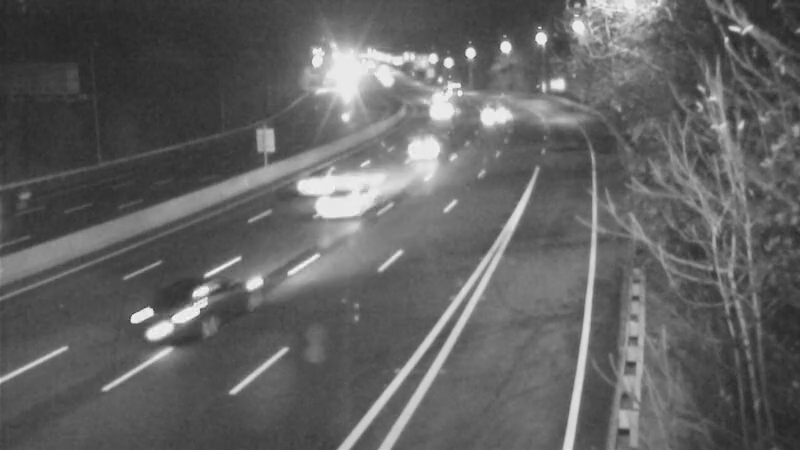vehicle: (109, 271, 219, 381), (273, 136, 353, 216), (308, 163, 388, 243), (1, 161, 72, 241), (431, 67, 481, 117), (410, 71, 460, 121), (412, 85, 462, 135), (468, 92, 518, 142), (397, 120, 447, 170)
